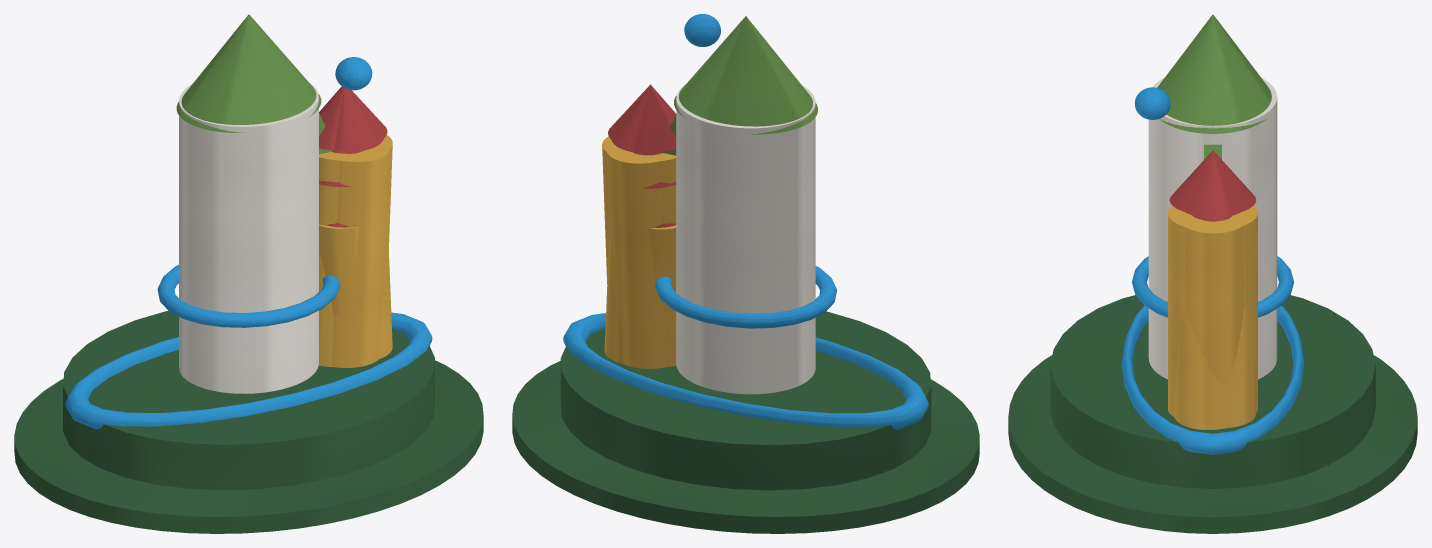
The model's file is 0554_岩石矿物图鉴_琥珀.glb.
The picture shows the model from 3 angles, left to right: view 1: azimuth 30°, elevation 25°; view 2: azimuth 150°, elevation 25°; view 3: azimuth 270°, elevation 25°; orthographic projection. The views are drawn at different scales.
Parts seen in each view (by area): view 1: card_0554; view 2: card_0554; view 3: card_0554.
Part boxes in pixels (x1=…): card_0554: x1=14, y1=14, x2=483, y2=533; card_0554: x1=512, y1=14, x2=979, y2=533; card_0554: x1=1008, y1=14, x2=1417, y2=533.
Bounding box in the file's own units: 1.03 × 1 × 0.8843.
